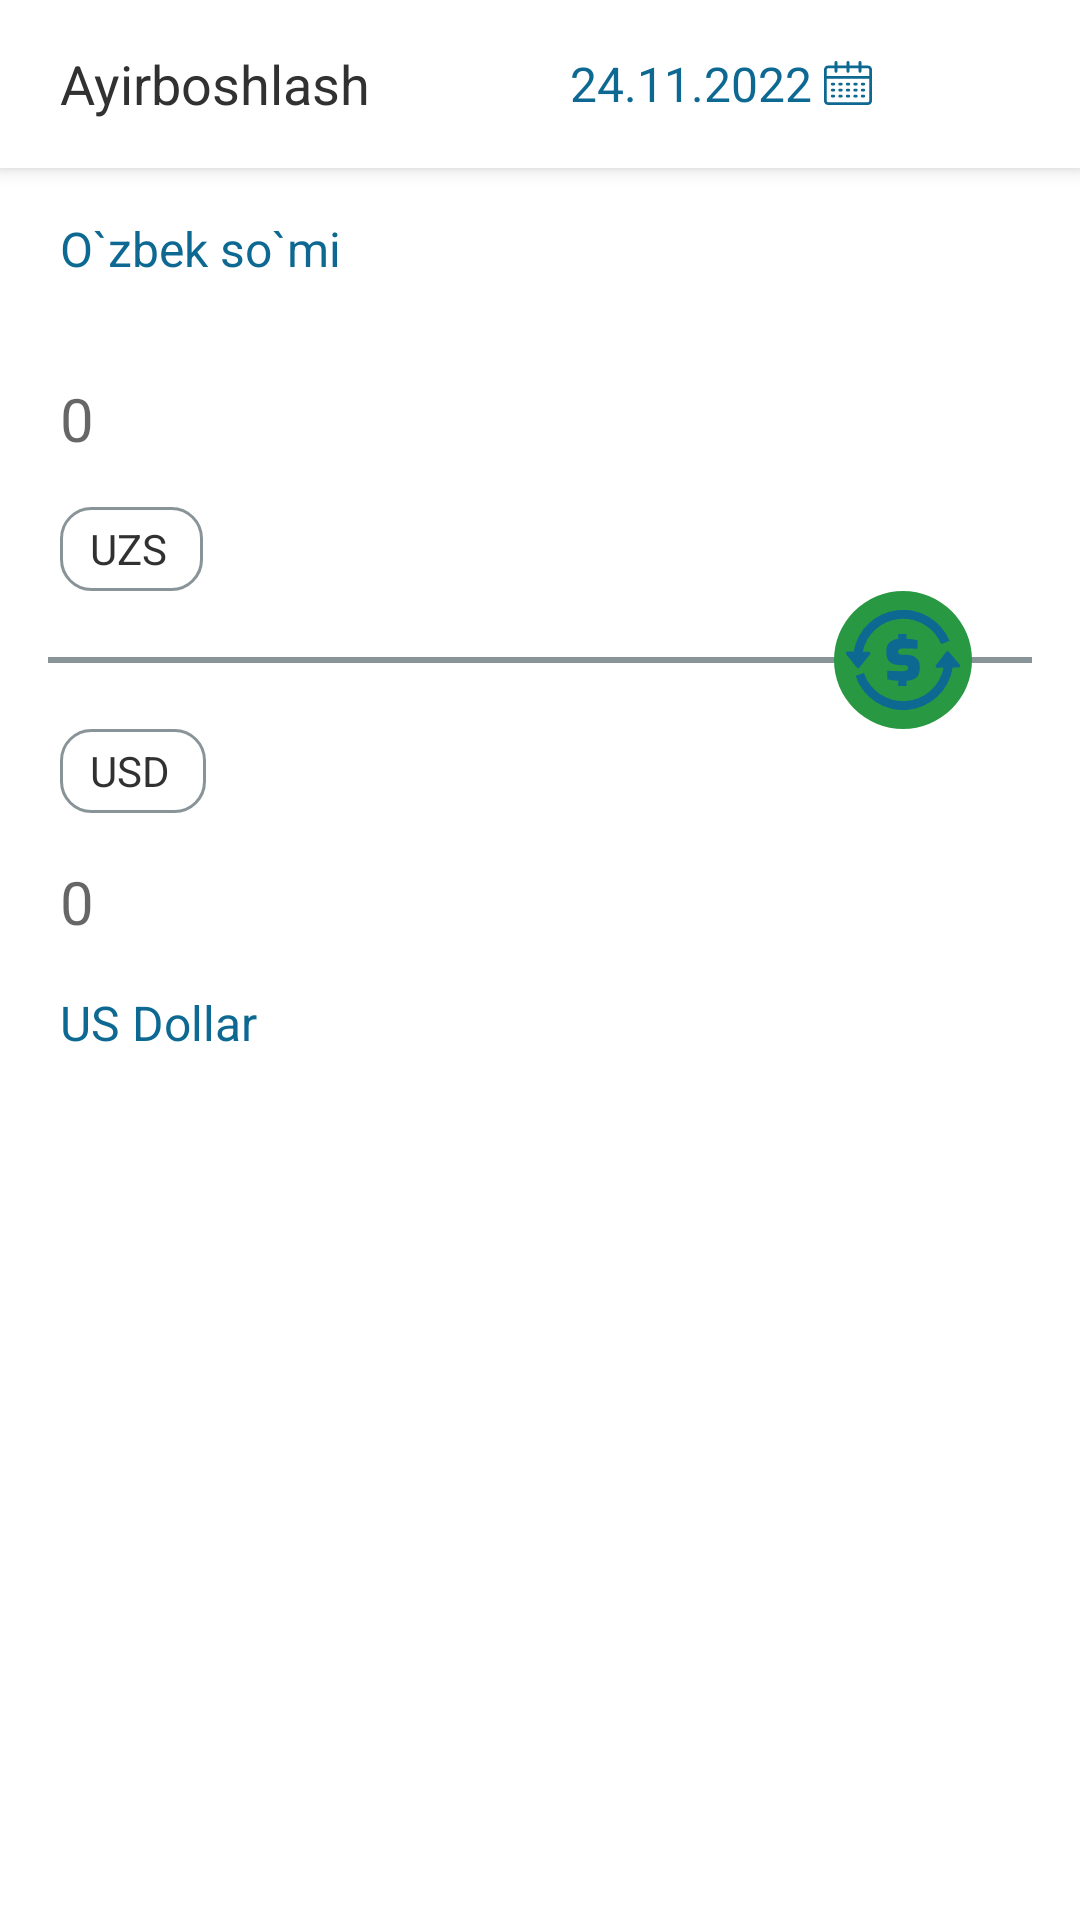

Named icons in this screenshot (1080px x 1920px) and their bounding boxes, bbox(x1, y1, x2, y2):
calendar: bbox(824, 61, 872, 105)
exchange: bbox(834, 591, 972, 729)
